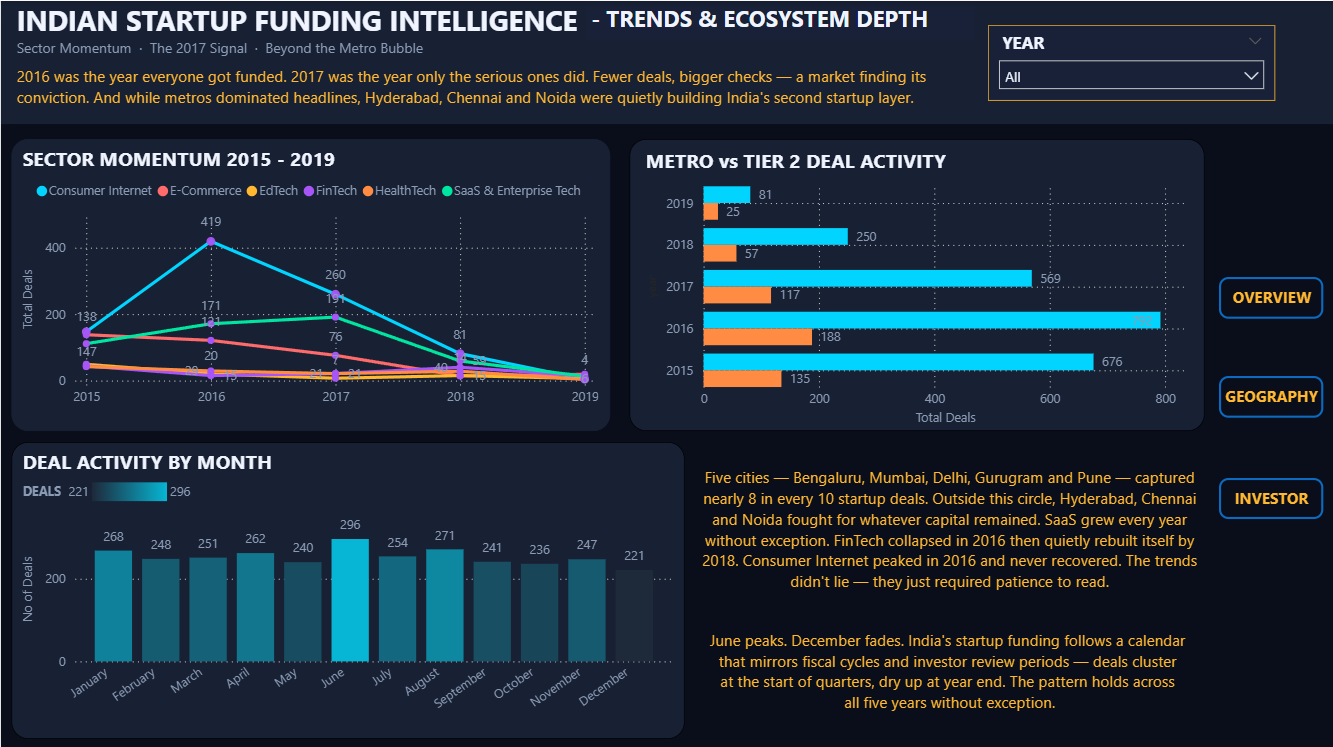

What the dashboard file says about the page in this screenshot:
{"tool":"powerbi","page":{"name":"Page4_Trends","canvas":[1280,720],"ordinal":3},"visuals":[{"type":"textbox","title":"INDIAN STARTUP FUNDING INTELLIGENCE","box":[0,0,1279.5,118.1],"z":0},{"type":"clusteredBarChart","title":"METRO vs TIER 2 DEAL ACTIVITY ","fields":{"Y":["CountNonNull(fact_funding.funding_id)"],"Series":["dim_startup.city_tier"],"Category":["dim_date.year"]},"box":[602.7,131.7,551.2,280.1],"z":4000},{"type":"lineChart","title":"SECTOR MOMENTUM 2015 - 2019","fields":{"Y":["CountNonNull(fact_funding.funding_id)"],"Category":["dim_date.year"],"Series":["dim_startup.industry_vertical"]},"box":[10.6,131.7,573.9,280.1],"z":5000},{"type":"textbox","box":[10.1,56.1,950.6,76.2],"z":6000},{"type":"slicer","fields":{"Values":["dim_date.year"]},"box":[946.4,22.7,275.6,72.7],"z":8000},{"type":"textbox","title":"- TRENDS & ECOSYSTEM DEPTH","box":[560.3,2,372.5,35],"z":9000},{"type":"clusteredColumnChart","title":"DEAL ACTIVITY BY MONTH","fields":{"Y":["CountNonNull(fact_funding.funding_id)"],"Category":["dim_date.month"]},"box":[10.6,422.5,645.1,284.7],"z":10001},{"type":"actionButton","title":"OVERVIEW","box":[1168,264,100,40],"z":10002},{"type":"actionButton","title":"GEOGRAPHY","box":[1168,360,100,40],"z":10003},{"type":"actionButton","title":"INVESTOR","box":[1168,457,100,39],"z":10004},{"type":"textbox","box":[666.3,422.5,487.6,284.7],"z":10005}]}

Visuals, with their boxes in screenshot pixels (x1, y1, x2, y2), scaled from the page's 1280x720 canvas onto the 1333x747 screenshot:
"INDIAN STARTUP FUNDING INTELLIGENCE" textbox: 0,0,1332,123
"METRO vs TIER 2 DEAL ACTIVITY " clusteredBarChart: 628,137,1202,427
"SECTOR MOMENTUM 2015 - 2019" lineChart: 11,137,609,427
textbox: 11,58,1000,137
slicer - dim_date.year: 986,24,1273,99
"- TRENDS & ECOSYSTEM DEPTH" textbox: 583,2,971,38
"DEAL ACTIVITY BY MONTH" clusteredColumnChart: 11,438,683,734
"OVERVIEW" actionButton: 1216,274,1321,315
"GEOGRAPHY" actionButton: 1216,374,1321,415
"INVESTOR" actionButton: 1216,474,1321,515
textbox: 694,438,1202,734
